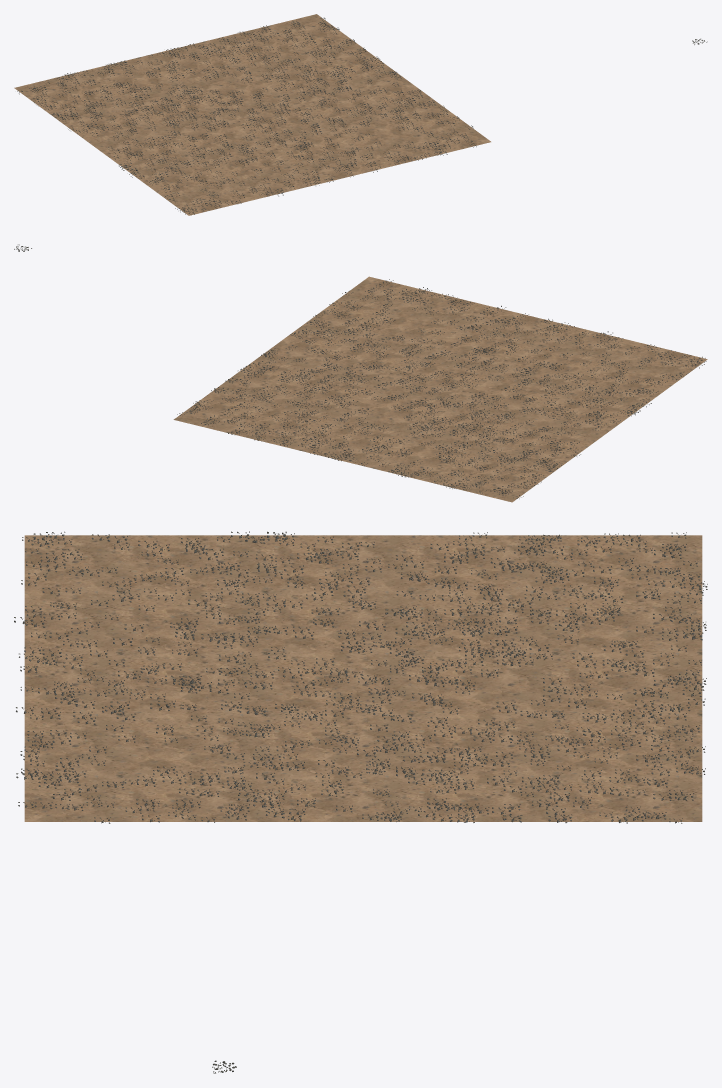
Rendered from runtime-lava-scree.glb.
3 views of the same model, one above another, from view 1: azimuth 30°, elevation 25°; view 2: azimuth 150°, elevation 25°; view 3: azimuth 270°, elevation 25° (orthographic). The views are drawn at different scales.
Visible parts, largest first — view 1: Ground; view 2: Ground; view 3: Ground.
Part boxes in pixels (x1,y1,x2,y2): Ground: [14, 14, 490, 215]; Ground: [173, 276, 707, 502]; Ground: [24, 535, 702, 821].
Bounding box in the file's own units: 22.69 × 0.0669 × 12.32.
Materials: 2 (2 with a texture image).
